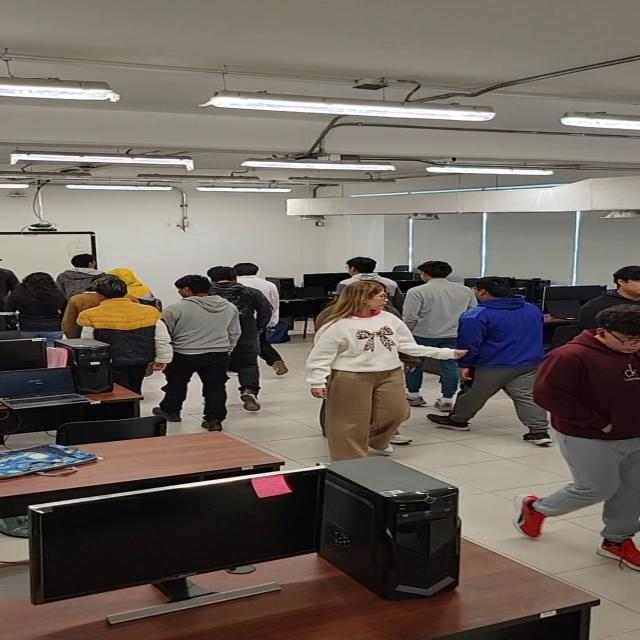Persona: (527, 300, 640, 578), (458, 275, 548, 450), (324, 278, 406, 464), (73, 276, 160, 403), (164, 272, 227, 429), (213, 263, 271, 414), (407, 253, 460, 400), (8, 270, 62, 346)
